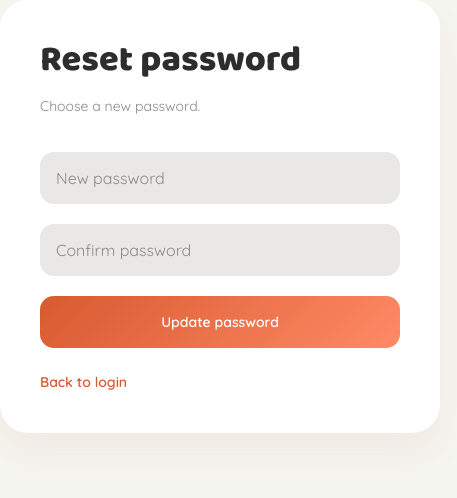
Test: ResetPasswordForm › shows a validation error when the passwords do not match
The width and height of the screenshot is (457, 498).
Type "12345678" into the password field with placeholder "New password" at x=220, y=178, box [40,152,400,204]
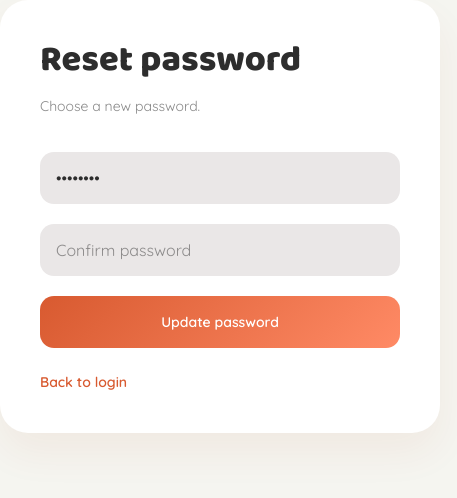
Type "87654321" into the password field with placeholder "Confirm password" at x=220, y=250, box [40,224,400,276]
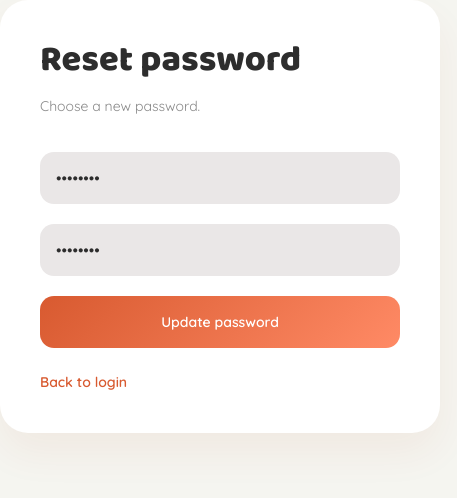
Click the button "Update password" at x=220, y=322, box [40,296,400,348]
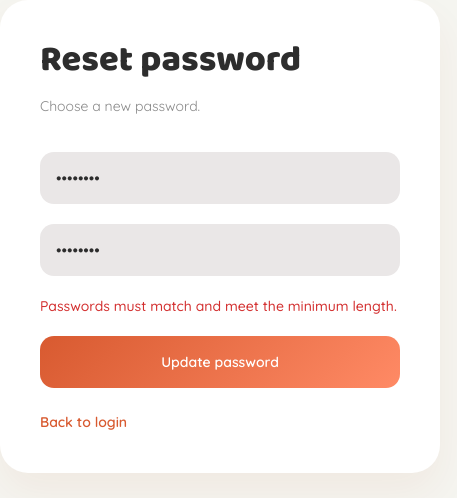
Check: the text "Passwords must match and meet the minimum length." is shown, box [40,296,400,316]
